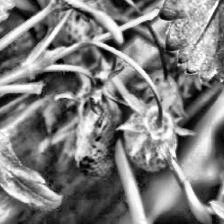Gray Mold: (55, 66, 129, 179)
